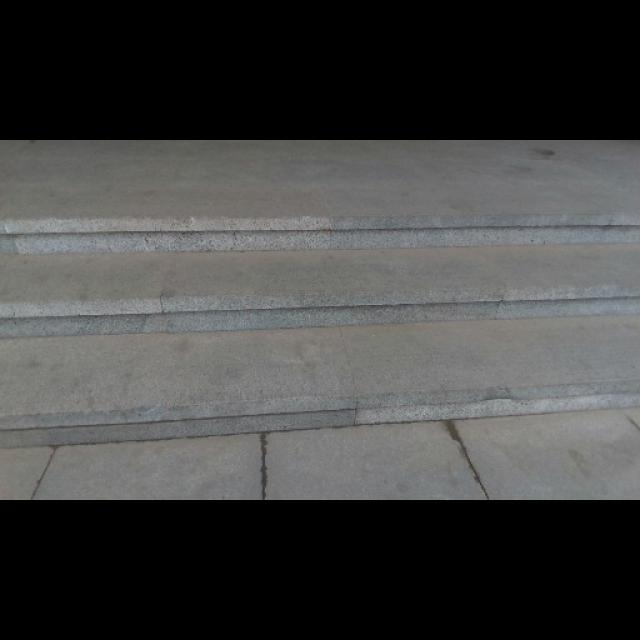Stairs: (0, 214, 639, 450)
